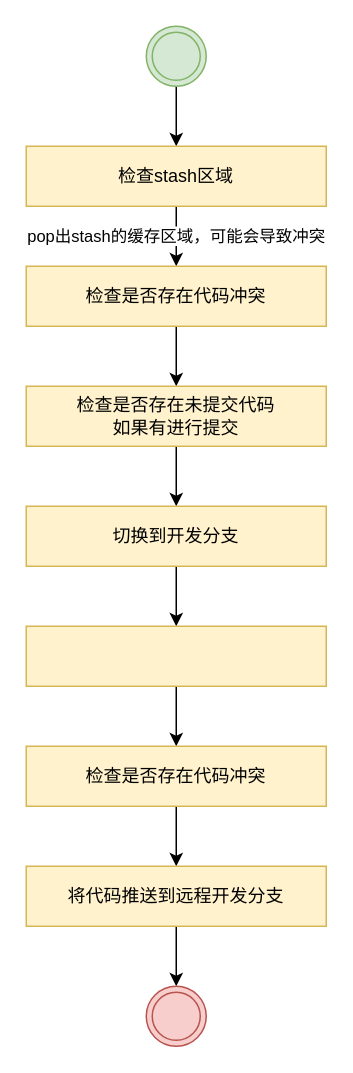
This 353x1073 diagram has some shape labels left out. Here are the shapes that lost their labels. From the top down, the centre of each, then its label:
the point at 175,55: start
the point at 175,655: 合并远程的master分支和开发分支中的代码
the point at 175,1015: end
